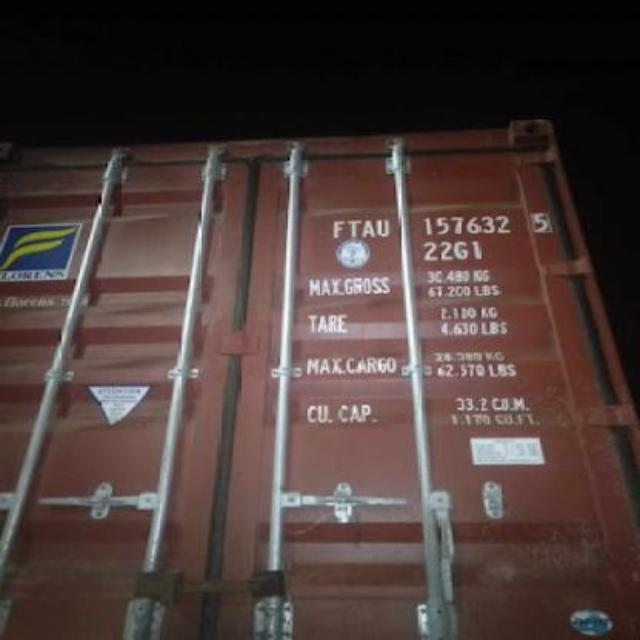1: (421, 213, 434, 237)
2: (494, 208, 512, 236)
3: (478, 210, 494, 234)
5: (528, 209, 556, 235), (434, 211, 450, 237)
6: (466, 209, 479, 241)
7: (448, 210, 466, 234)
A: (362, 212, 374, 244)
F: (328, 212, 344, 240)
T: (346, 212, 359, 240)
U: (374, 212, 390, 242)
